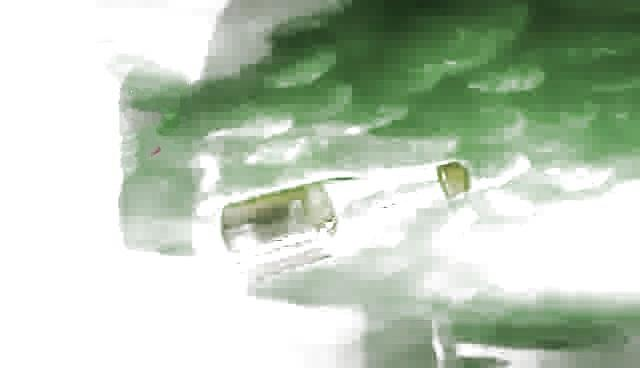Plastic: (187, 159, 481, 293)
